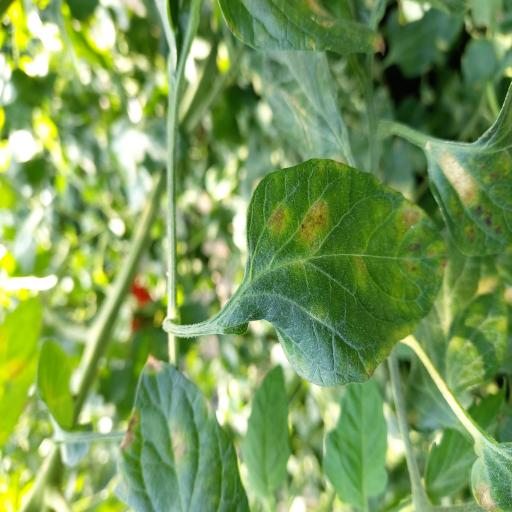Leaf Mold: (244, 157, 448, 387), (109, 352, 249, 512)
